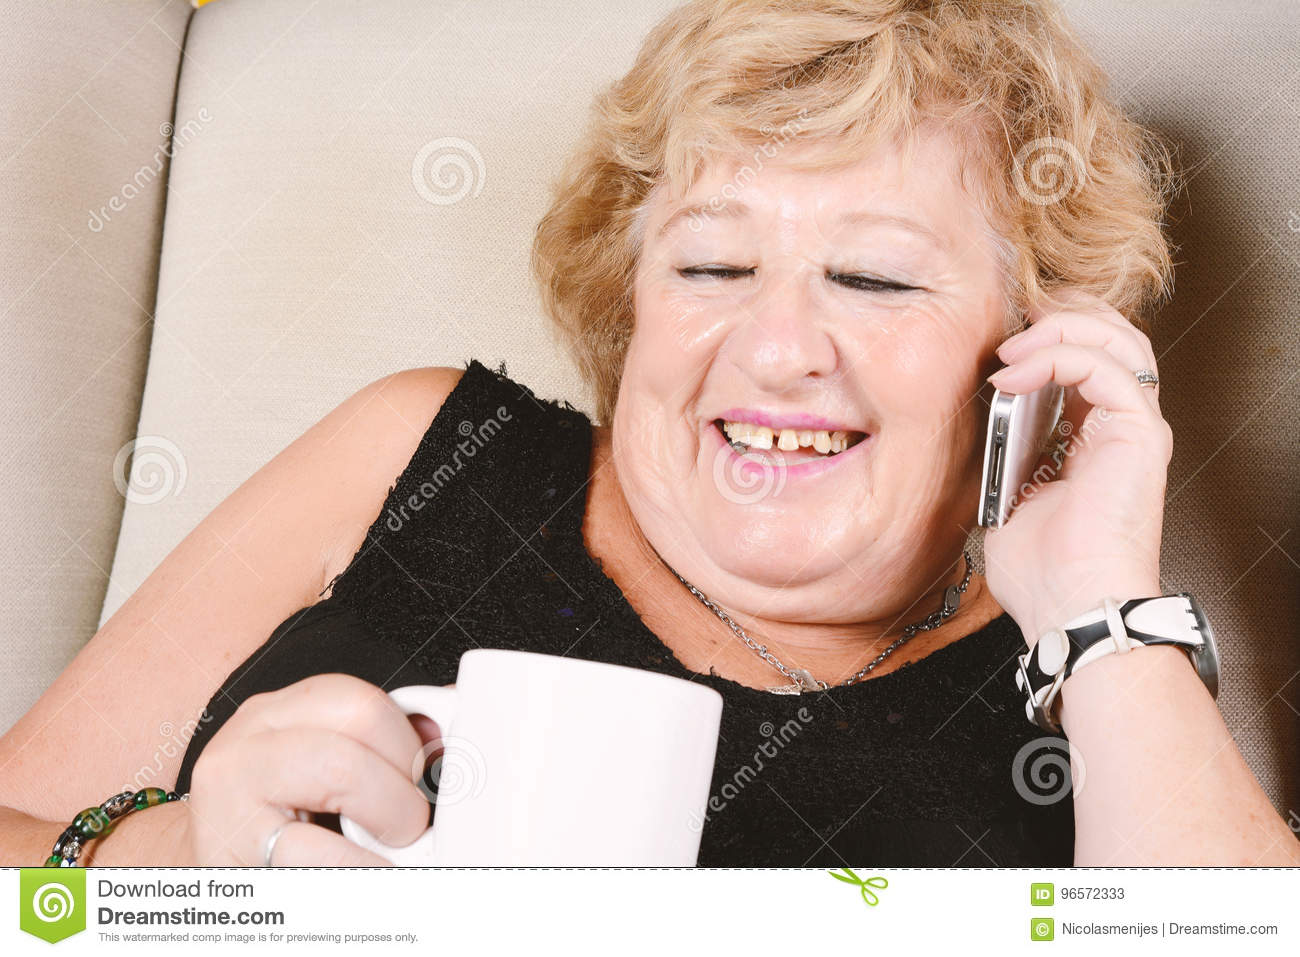phone: (977, 285, 1084, 534)
talk: (634, 192, 1173, 649)
